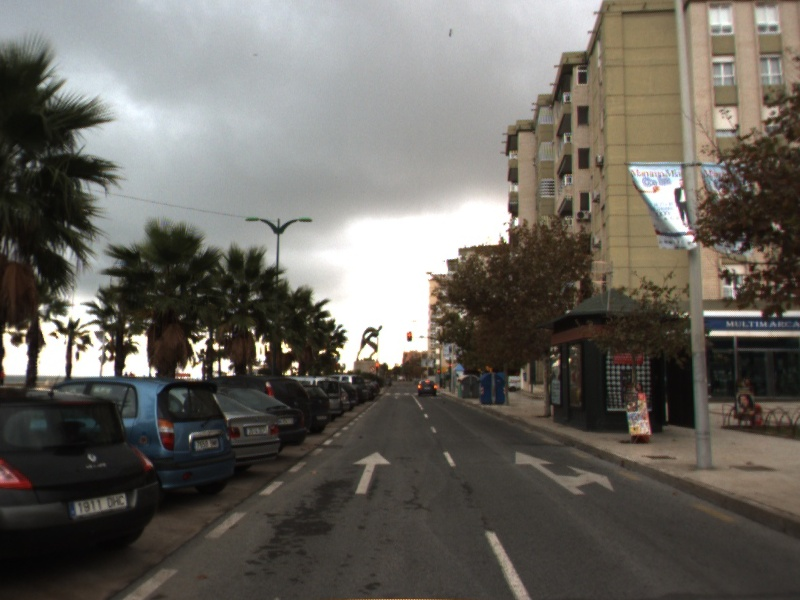STRAIGHT: (351, 450, 392, 496)
STRAIGHT_RIGHT: (514, 450, 616, 496)
